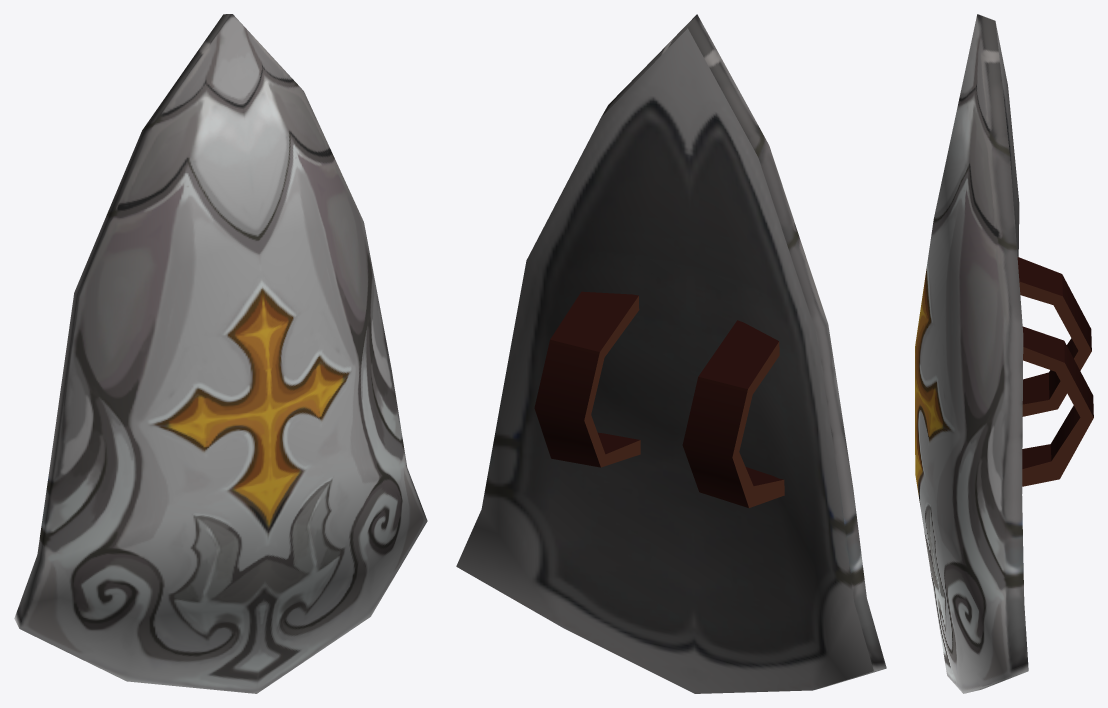
Rendered from shield.FBX.
3 renders of one model, left to right at view 1: azimuth 30°, elevation 25°; view 2: azimuth 150°, elevation 25°; view 3: azimuth 270°, elevation 25°, orthographic. The views are drawn at different scales.
Parts seen in each view (by area): view 1: shield; view 2: shield; view 3: shield.
Part boxes in pixels (box(x1,y1,x2,y2)): shield: box(14, 14, 427, 693); shield: box(456, 14, 886, 693); shield: box(915, 14, 1093, 693).
Size of the model in its own units: 0.5341 by 0.833 by 0.2053.
1 material, 1 textured.
